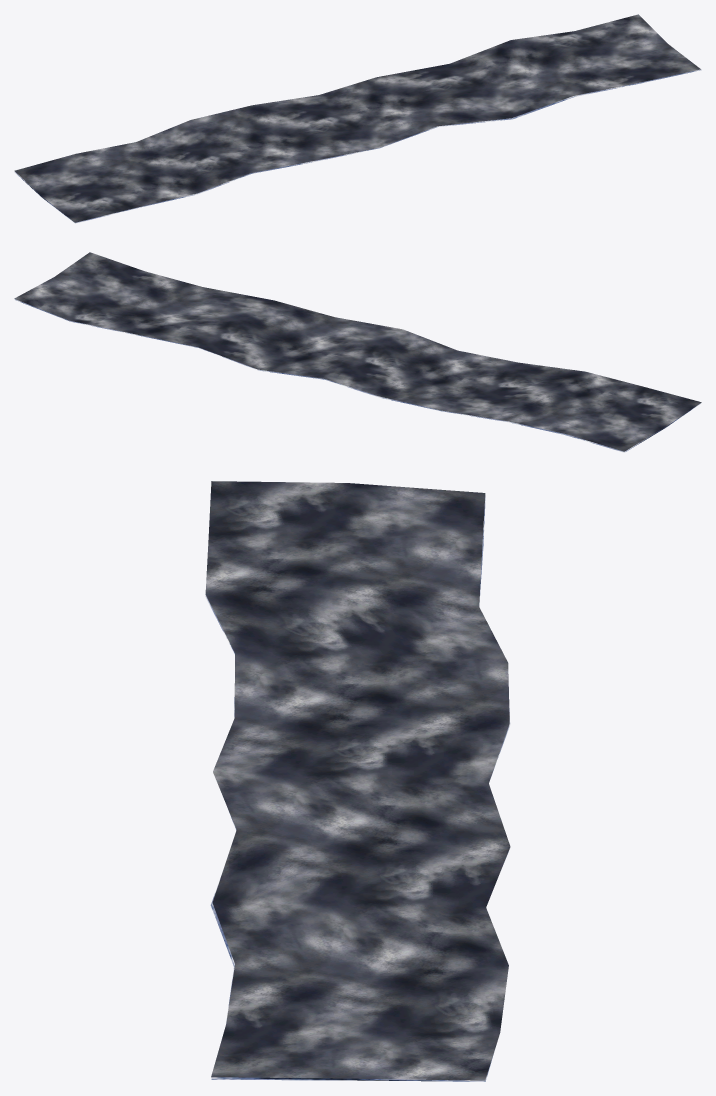
Rendered from LONE_MOUNTAIN_WATERFALLS_MAINWATER_TREASURY05.fbx.
3 renders of one model, top to bottom at view 1: azimuth 30°, elevation 25°; view 2: azimuth 150°, elevation 25°; view 3: azimuth 270°, elevation 25°, orthographic. The views are drawn at different scales.
Visible parts, largest first — view 1: LONE_MOUNTAIN_WATERFALLS_MAINWATER_TREASURY05; view 2: LONE_MOUNTAIN_WATERFALLS_MAINWATER_TREASURY05; view 3: LONE_MOUNTAIN_WATERFALLS_MAINWATER_TREASURY05.
Part boxes in pixels (left/top/right/bottom): LONE_MOUNTAIN_WATERFALLS_MAINWATER_TREASURY05: left=14, top=14, right=701, bottom=223; LONE_MOUNTAIN_WATERFALLS_MAINWATER_TREASURY05: left=14, top=252, right=701, bottom=452; LONE_MOUNTAIN_WATERFALLS_MAINWATER_TREASURY05: left=205, top=481, right=510, bottom=1081.
Size of the model in its own units: 161507 by 1729 by 34470.
2 materials, 2 textured.
